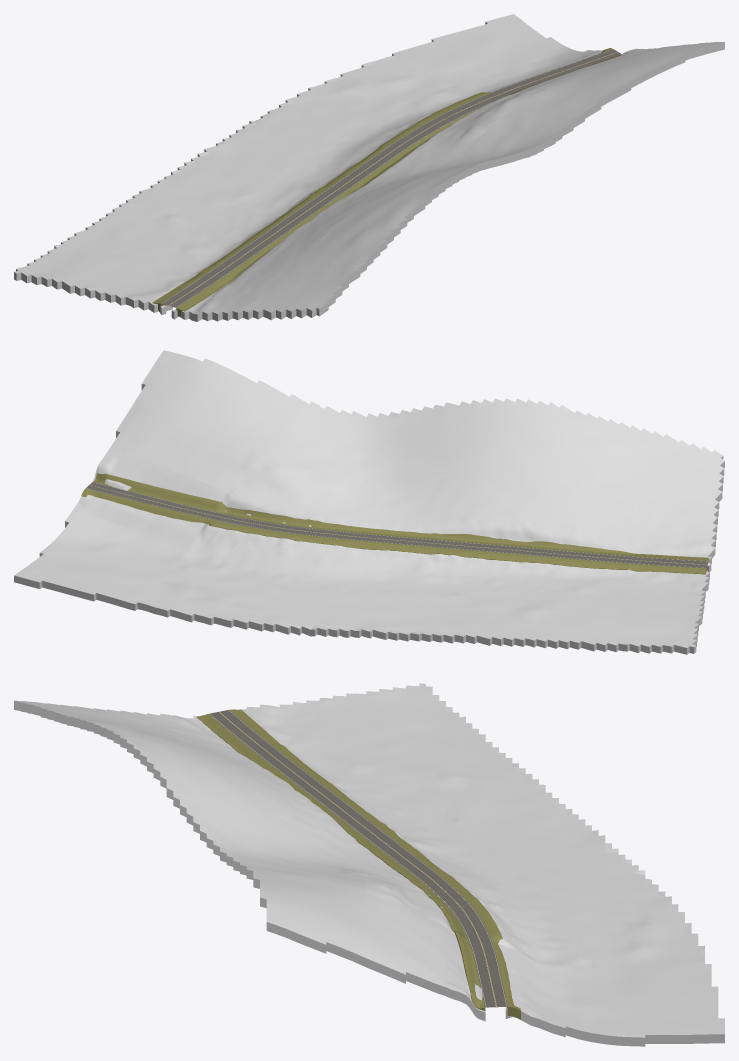
The model's file is conz_46.glb.
3 views of the same model, one above another, from view 1: azimuth 30°, elevation 25°; view 2: azimuth 150°, elevation 25°; view 3: azimuth 270°, elevation 25° (orthographic). The views are drawn at different scales.
Visible parts, largest first — view 1: terrain46, road46, verge46R, verge46L, paint_white46, paint_yellow46; view 2: terrain46, road46, verge46L, verge46R; view 3: terrain46, road46, verge46R, verge46L, paint_white46.
Part boxes in pixels (x1=…): terrain46: x1=14, y1=14, x2=724, y2=321; road46: x1=161, y1=49, x2=621, y2=307; verge46R: x1=176, y1=55, x2=620, y2=316; verge46L: x1=152, y1=48, x2=612, y2=310; paint_white46: x1=162, y1=49, x2=613, y2=307; paint_yellow46: x1=168, y1=52, x2=618, y2=305; terrain46: x1=14, y1=350, x2=724, y2=654; road46: x1=86, y1=482, x2=708, y2=568; verge46L: x1=81, y1=488, x2=706, y2=574; verge46R: x1=93, y1=473, x2=708, y2=563; terrain46: x1=14, y1=683, x2=724, y2=1046; road46: x1=209, y1=710, x2=507, y2=1007; verge46R: x1=197, y1=714, x2=485, y2=1010; verge46L: x1=229, y1=709, x2=520, y2=1019; paint_white46: x1=210, y1=710, x2=506, y2=1007.
Size of the model in its own units: 274 by 52.04 by 214.
